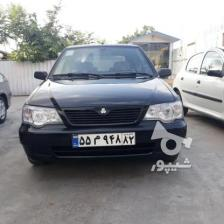plate: (70, 131, 134, 146)
